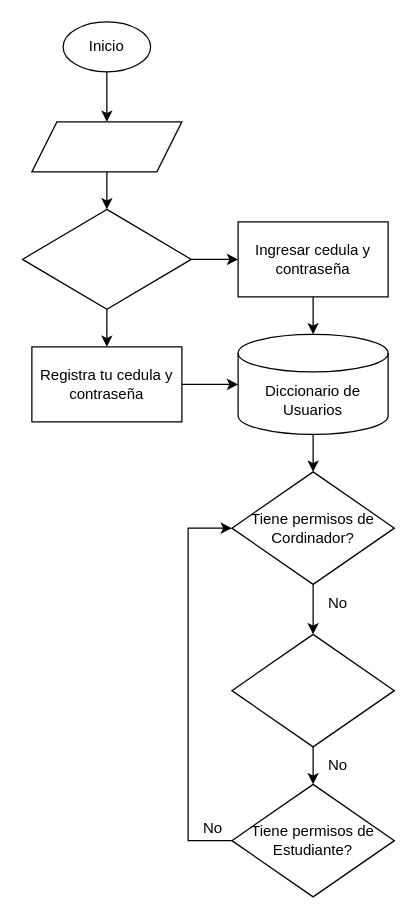
This 416x919 diagram has some shape labels left out. Each missing label, with the box of its shape:
Estas Registrado?: (21, 208, 191, 309)
Ingresar: (31, 121, 182, 172)
Tiene permisos de Profesor?: (231, 633, 394, 747)
